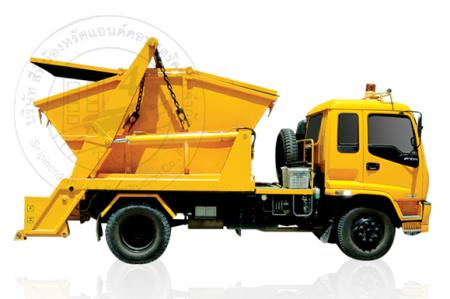truck: (15, 36, 434, 264)
